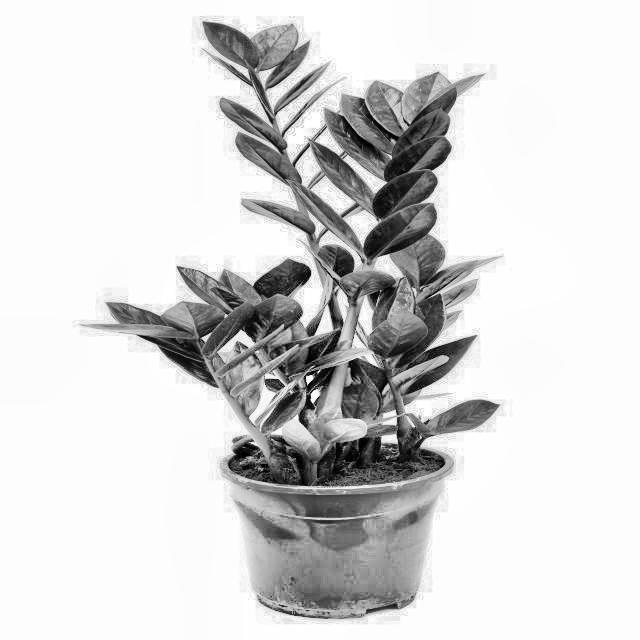plants: (98, 14, 528, 618)
